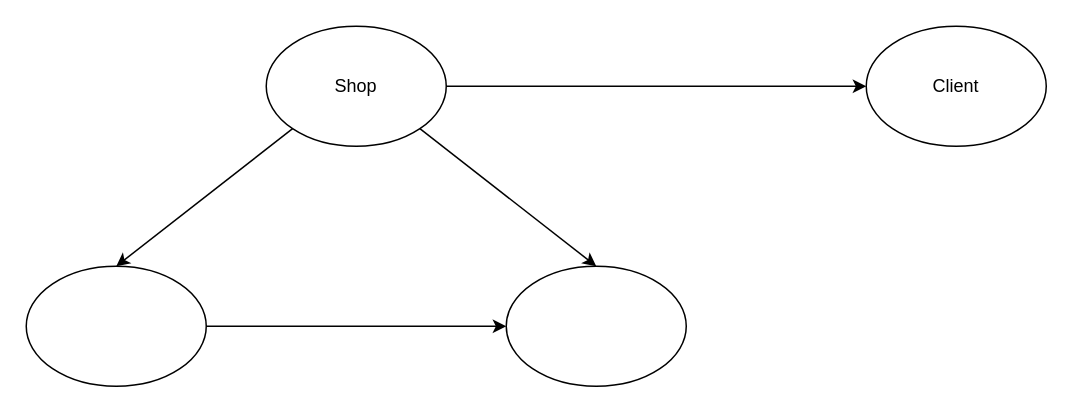
Some shapes in this 1073 by 413 pixel diagram are drawn without their labels. The shapes that lost their labels are listed below. From the top down, each one's centre as x and y in pixels, then its label:
At [115,325]: "Orders".
At [595,325]: "Products".
